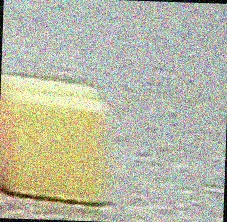yellow_cube: (0, 70, 124, 207)
